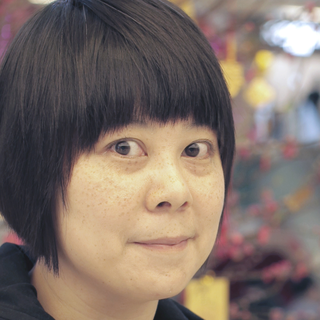eye: (102, 132, 152, 167), (175, 132, 220, 167)
